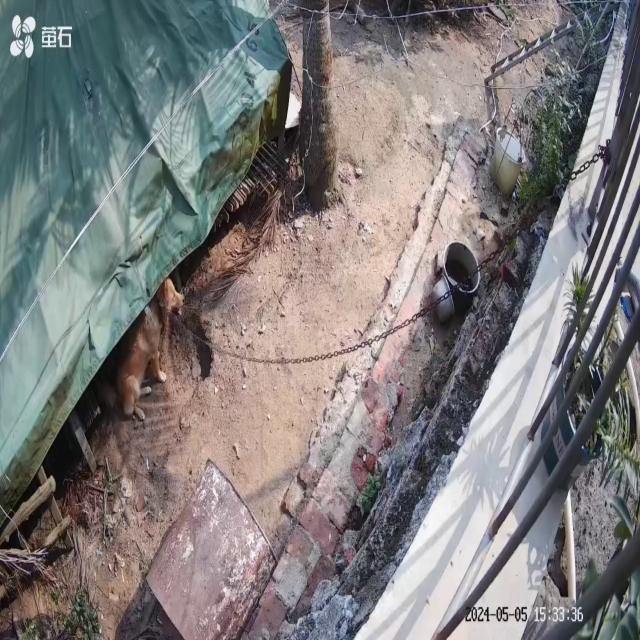dog: (99, 277, 186, 422)
